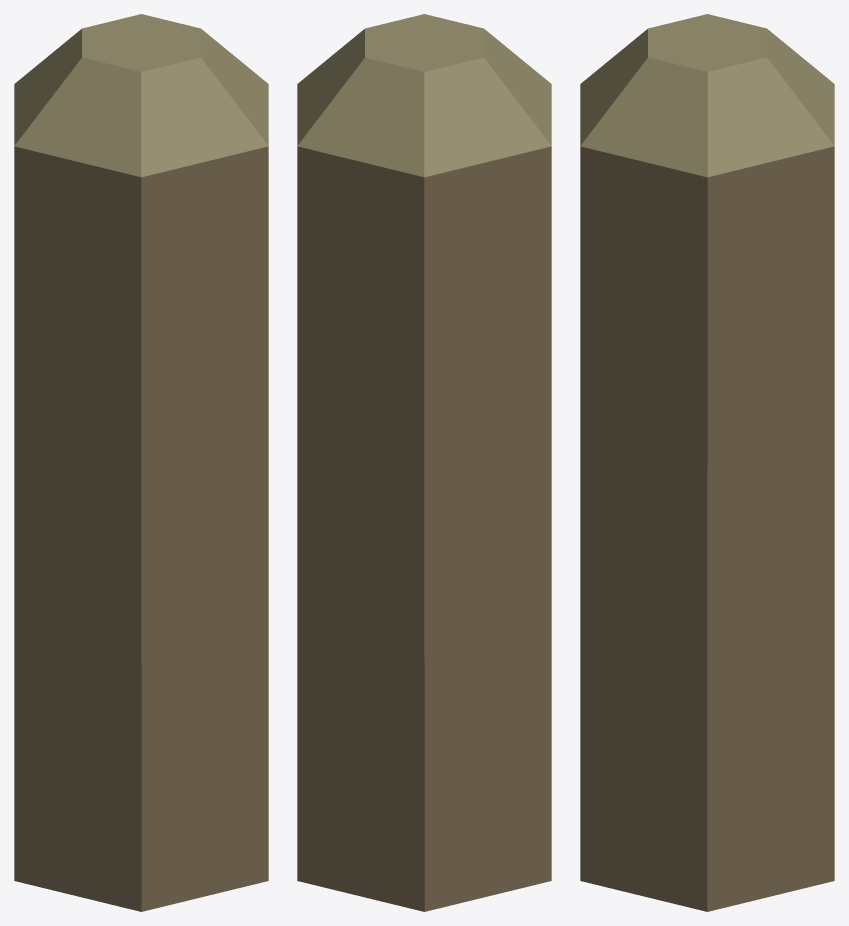
File: TB_D_Env_CactusA_B.FBX
3 renders of one model, left to right at view 1: azimuth 30°, elevation 25°; view 2: azimuth 150°, elevation 25°; view 3: azimuth 270°, elevation 25°, orthographic.
Visible parts, largest first — view 1: TB_D_Env_CactusA_B; view 2: TB_D_Env_CactusA_B; view 3: TB_D_Env_CactusA_B.
Part boxes in pixels (x1,y1,x2,y2): TB_D_Env_CactusA_B: (14, 14, 268, 911); TB_D_Env_CactusA_B: (297, 14, 551, 911); TB_D_Env_CactusA_B: (580, 14, 834, 911).
Bounding box in the file's own units: 0.5608 × 1.7 × 0.4857.
